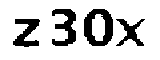0: (83, 8, 114, 51)
3: (48, 6, 77, 48)
x: (115, 16, 148, 47)
z: (9, 15, 44, 52)
